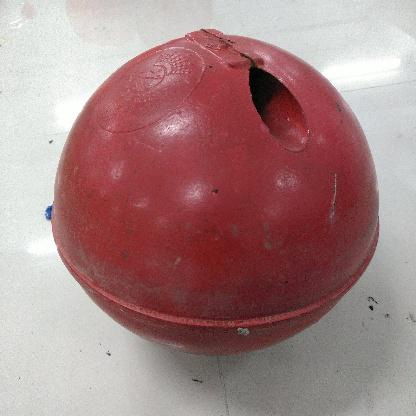red_buoy: (47, 25, 382, 364)
